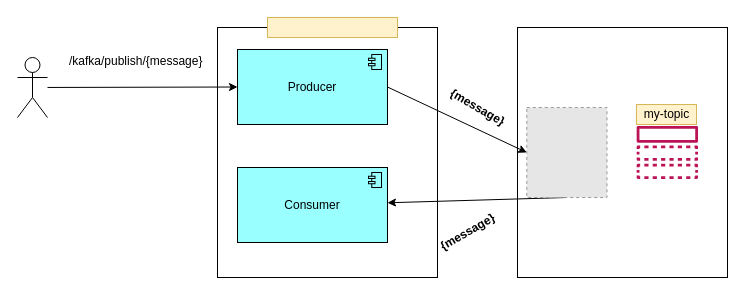
The diagram is 745 pixels wide and 295 high, and some of its shapes have lost their labels. Grey dashed boxes stand in for pictures. The shapes that lost their labels are listed below. From the top down, each one's centre as x and y in pixels, then its label:
At pixel 332 27: "ocp-demo-app-kafka".
At pixel 32 87: "Actor".
